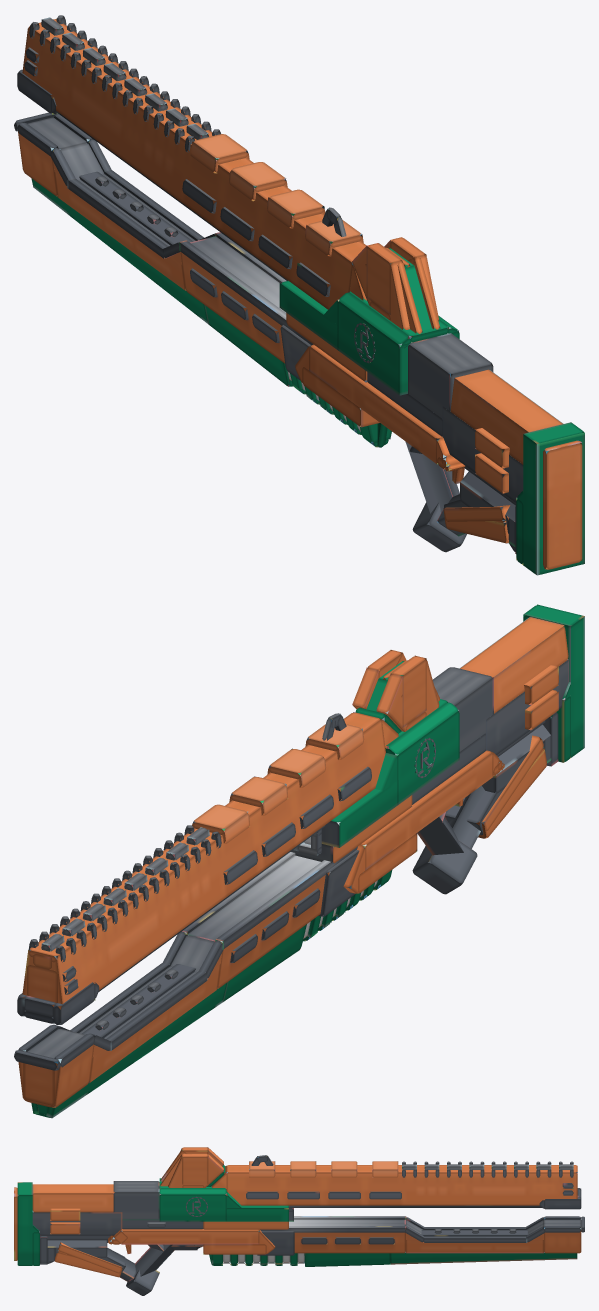
3 views of the same model, one above another, from view 1: azimuth 30°, elevation 25°; view 2: azimuth 150°, elevation 25°; view 3: azimuth 270°, elevation 25° (orthographic). The views are drawn at different scales.
Visible parts, largest first — view 1: o (×13), g (×5), Zadgrey (×6), on (×3), gp (×4), green n (×2), kucok malenkii (×4), gpp2 (×2), gpp (×2), pricel; view 2: o (×13), Zadgrey (×8), g (×6), on (×4), gp (×5), green n (×2), kucok malenkii (×4), gpp2 (×2), gpp (×3), pricel; view 3: o (×13), Zadgrey (×10), g (×6), on (×3), green n (×2), gpp (×4), gp (×4), kucok malenkii (×7), gb (×4), gpp2 (×2), pricel (×2).
Boxes of the visible parts, box(x1,y1,x2,y2) form: o (×13): box(22, 19, 582, 569); g (×5): box(17, 69, 584, 575); Zadgrey (×6): box(367, 333, 523, 552); on (×3): box(18, 131, 284, 363); gp (×4): box(27, 117, 285, 312); green n (×2): box(31, 178, 289, 385); kucok malenkii (×4): box(194, 134, 362, 247); gpp2 (×2): box(67, 179, 313, 345); gpp (×2): box(103, 170, 311, 380); pricel: box(365, 260, 409, 329); o (×13): box(27, 617, 568, 1009); Zadgrey (×8): box(412, 659, 568, 894); g (×6): box(53, 604, 584, 1024); on (×4): box(23, 872, 329, 1107); gp (×5): box(24, 825, 325, 1059); green n (×2): box(46, 924, 306, 1118); kucok malenkii (×4): box(192, 724, 362, 834); gpp2 (×2): box(106, 846, 357, 1050); gpp (×3): box(70, 850, 359, 1032); pricel: box(376, 673, 407, 731); o (×13): box(14, 1153, 577, 1277); Zadgrey (×10): box(32, 1181, 203, 1295); g (×6): box(17, 1182, 581, 1265); on (×3): box(294, 1227, 581, 1253); green n (×2): box(304, 1253, 577, 1266); gpp (×4): box(257, 1226, 580, 1255); gp (×4): box(288, 1198, 581, 1236); kucok malenkii (×7): box(249, 1161, 398, 1177); gb (×4): box(246, 1191, 401, 1199); gpp2 (×2): box(294, 1216, 526, 1229); pricel (×2): box(168, 1154, 223, 1187).
Bounding box in the file's own units: 0.1606 × 0.6672 × 2.39.
Materials: 1 (1 with a texture image).
